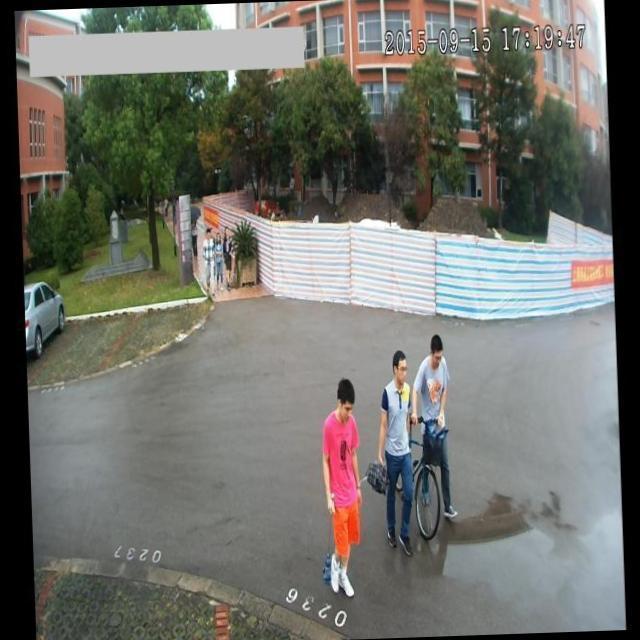person: (318, 374, 367, 598), (408, 330, 459, 520), (374, 348, 417, 566), (201, 228, 215, 296), (224, 223, 235, 294), (214, 232, 222, 290)
